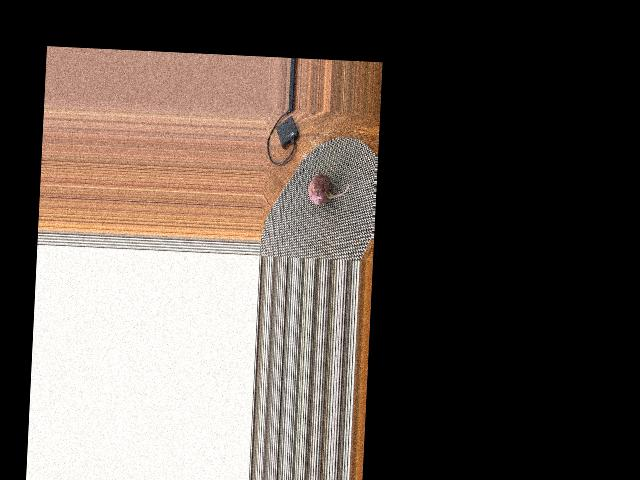beet: (308, 173, 350, 206)
